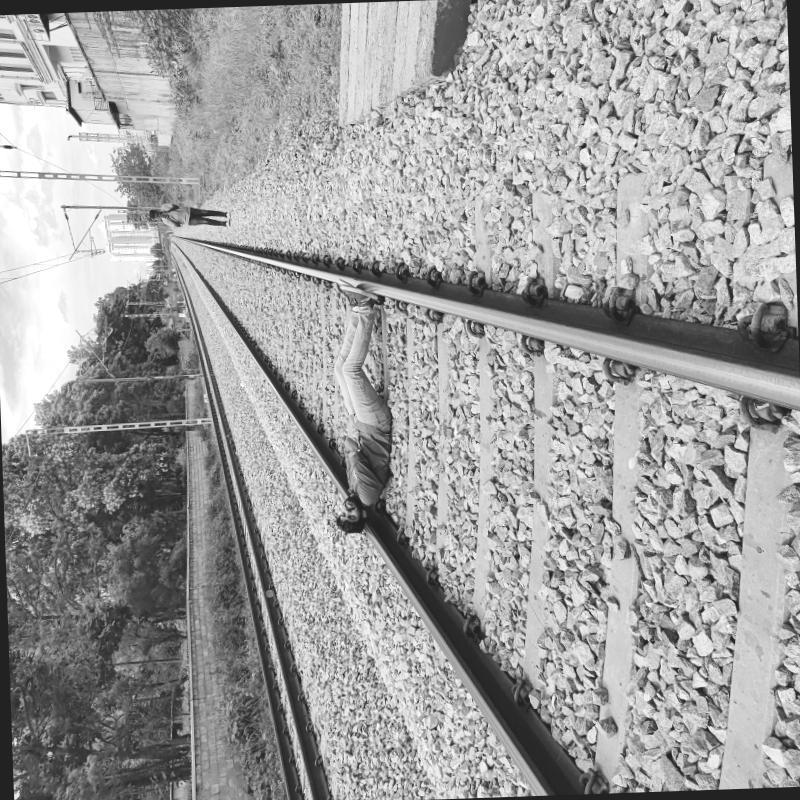sleeping: (318, 268, 407, 537)
